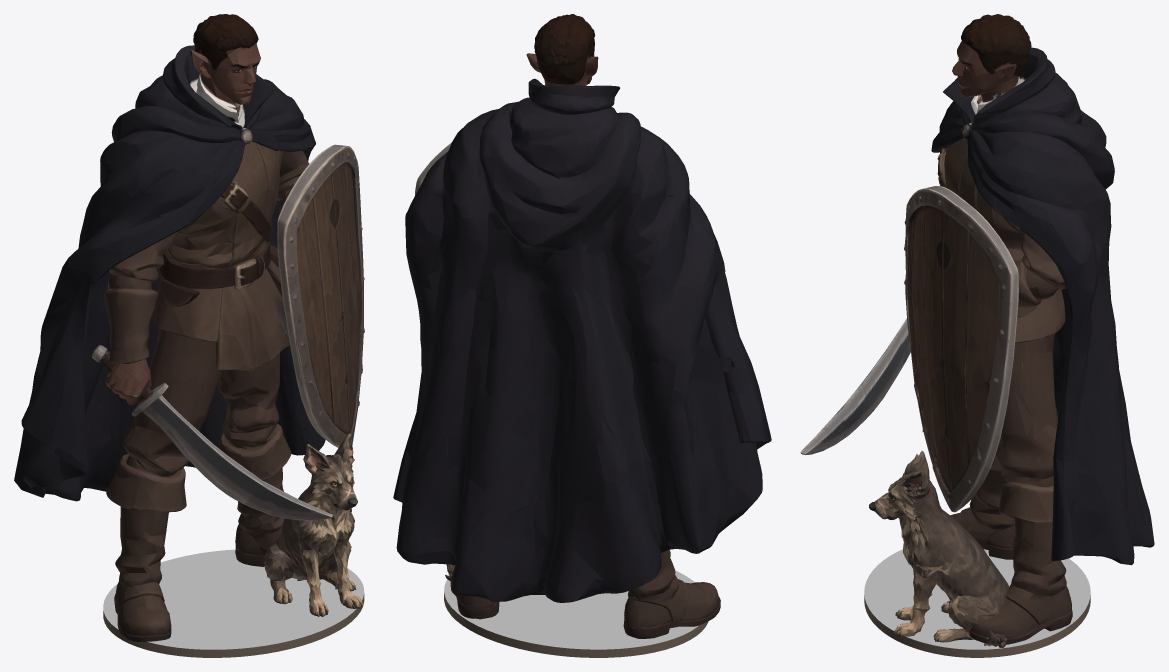
The model's file is pc_zeke.glb.
3 renders of one model, left to right at view 1: azimuth 30°, elevation 25°; view 2: azimuth 150°, elevation 25°; view 3: azimuth 270°, elevation 25°, orthographic.
Parts seen in each view (by area): view 1: Zeke, companion_brutus; view 2: Zeke; view 3: Zeke, companion_brutus.
Boxes of the visible parts, left/top/right/bottom form: Zeke: left=14, top=14, right=364, bottom=657; companion_brutus: left=264, top=433, right=362, bottom=616; Zeke: left=393, top=14, right=771, bottom=657; Zeke: left=800, top=14, right=1154, bottom=657; companion_brutus: left=869, top=451, right=1009, bottom=647.
Bounding box in the file's own units: 1.33 × 2.16 × 1.19.
4 materials, 2 textured.
